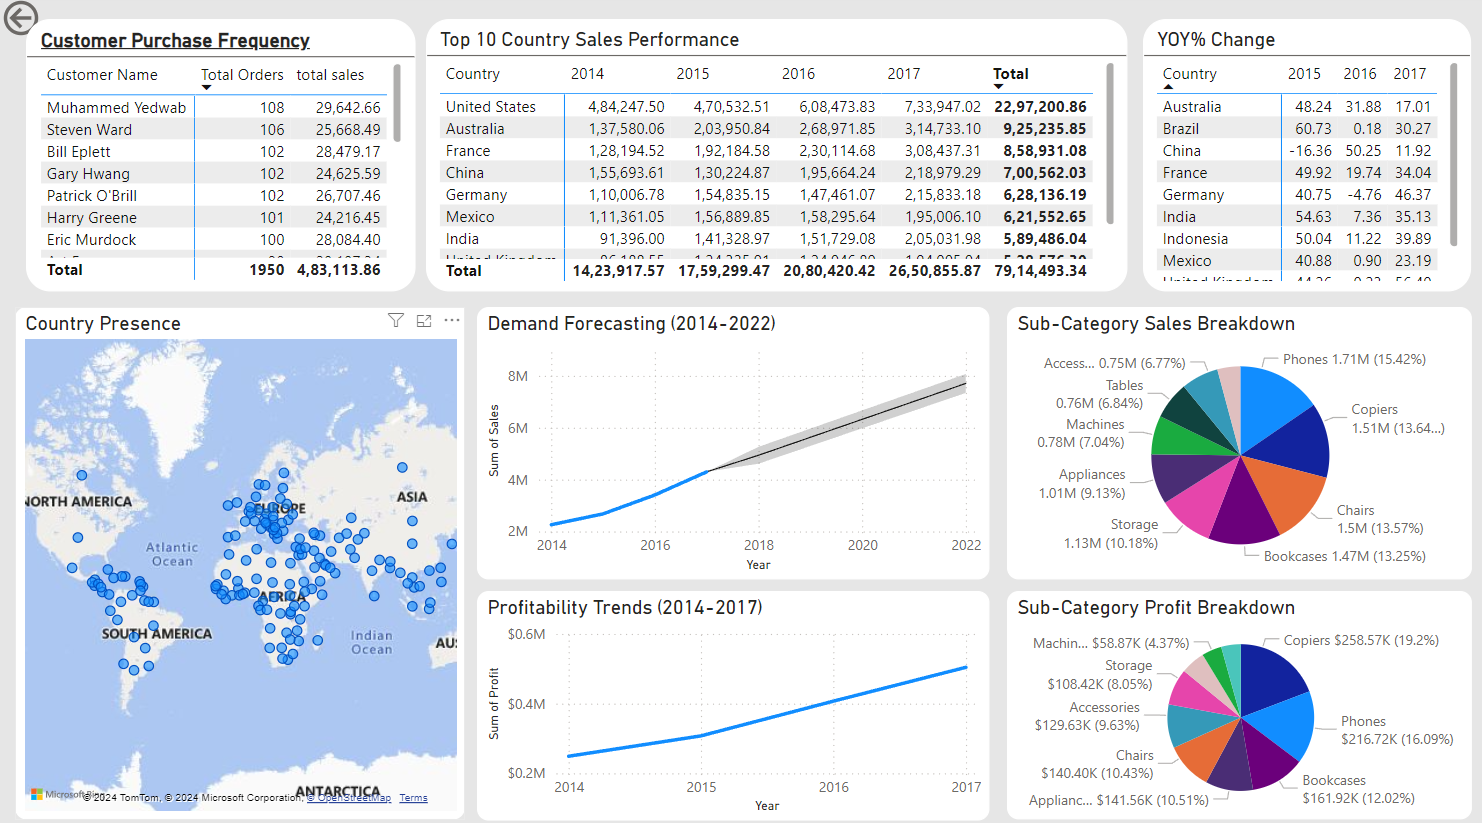

The page's visual inventory and layout, read from the dashboard file:
{"tool":"powerbi","page":{"name":"KEY INSIGHTS","canvas":[1280,720],"ordinal":1},"visuals":[{"type":"actionButton","box":[0,0,100.1,39.7],"z":0},{"type":"pivotTable","title":"YOY% Change","fields":{"Rows":["Orders.Country"],"Columns":["Orders.YearFromOrderDate"],"Values":["Orders.YoY % Change1"]},"box":[987.6,20.7,282.9,235.5],"z":1000},{"type":"pivotTable","title":"Top 10 Country Sales Performance","fields":{"Rows":["Orders.Country"],"Columns":["Orders.YearFromOrderDate"],"Values":["Orders.Sales"]},"box":[369.2,20.7,604.6,235.5],"z":2000},{"type":"pivotTable","title":"Customer Purchase Frequency","fields":{"Rows":["Orders.Customer Name"],"Values":["Orders.Total Orders","Orders.total sales"]},"box":[24.2,20.7,335.5,234.6],"z":3000},{"type":"pieChart","title":"Sub-Category Profit Breakdown","fields":{"Category":["Orders.Sub-Category"],"Y":["Orders.Profit"]},"box":[870,513.9,401.3,197.3],"z":4000},{"type":"pieChart","title":"Sub-Category Sales Breakdown","fields":{"Category":["Orders.Sub-Category"],"Y":["Orders.Sales"]},"box":[870.4,268.7,400.6,234.9],"z":5000},{"type":"lineChart","title":"Demand Forecasting (2014-2022)","fields":{"Category":["Orders.Order Date.Variation.Date Hierarchy.Year"],"Y":["Orders.Sales"]},"box":[413.2,269.1,441.6,234.6],"z":6000},{"type":"map","title":"Country Presence ","fields":{"Category":["Orders.Country"]},"box":[14.7,269.1,388.1,442.5],"z":7000},{"type":"lineChart","title":"Profitability Trends (2014-2017)","fields":{"Category":["Orders.Order Date.Variation.Date Hierarchy.Year"],"Y":["Orders.Profit"]},"box":[412.9,513.9,441.7,198.3],"z":8000}]}

Visuals, with their boxes in screenshot pixels (x1, y1, x2, y2), scaled from the page's 1280x720 canvas onto the 1482x823 screenshot:
actionButton: x1=0 y1=0 x2=116 y2=45
"YOY% Change" pivotTable: x1=1143 y1=24 x2=1471 y2=293
"Top 10 Country Sales Performance" pivotTable: x1=427 y1=24 x2=1127 y2=293
"Customer Purchase Frequency" pivotTable: x1=28 y1=24 x2=416 y2=292
"Sub-Category Profit Breakdown" pieChart: x1=1007 y1=587 x2=1472 y2=813
"Sub-Category Sales Breakdown" pieChart: x1=1008 y1=307 x2=1472 y2=576
"Demand Forecasting (2014-2022)" lineChart: x1=478 y1=308 x2=990 y2=576
"Country Presence " map: x1=17 y1=308 x2=466 y2=813
"Profitability Trends (2014-2017)" lineChart: x1=478 y1=587 x2=989 y2=814
